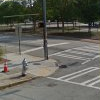crosswalk: (59, 64, 100, 87), (54, 45, 99, 61)
